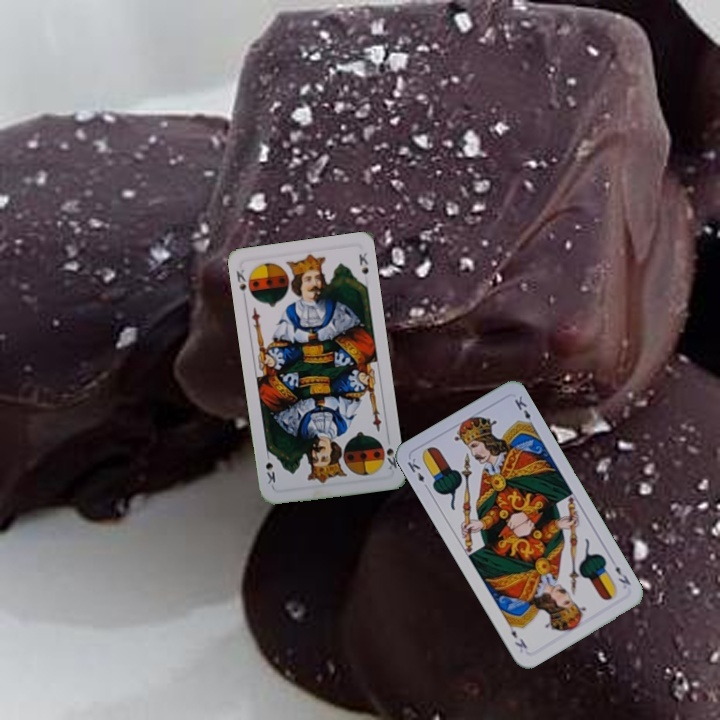EK: (403, 454, 432, 492), (611, 562, 633, 588)
SK: (382, 433, 399, 473), (232, 266, 249, 303)
